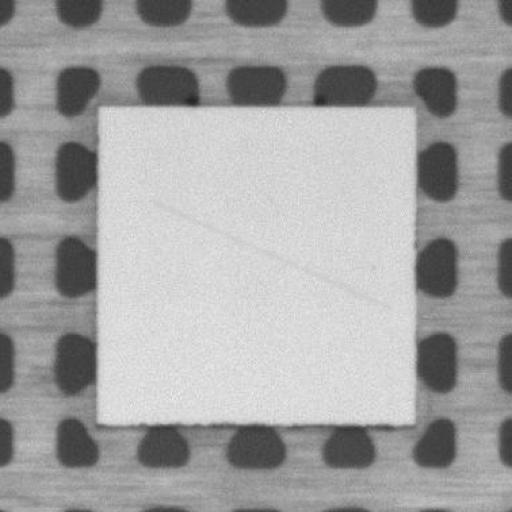DIE_CRACK: (152, 202, 388, 307)
